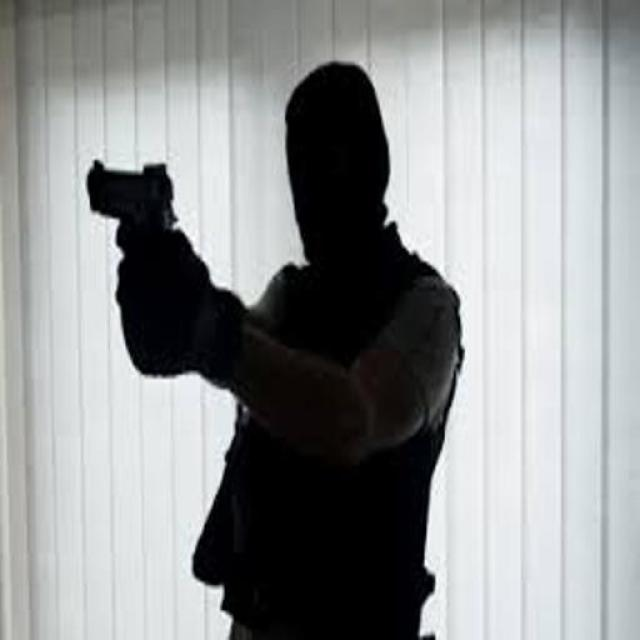pistol: (76, 156, 184, 308)
